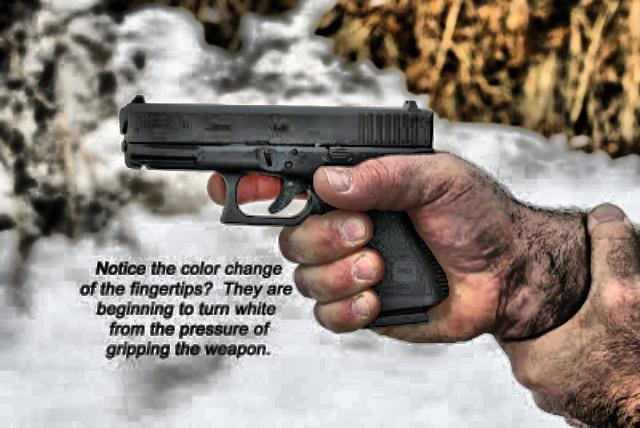pistol: (116, 93, 447, 325)
